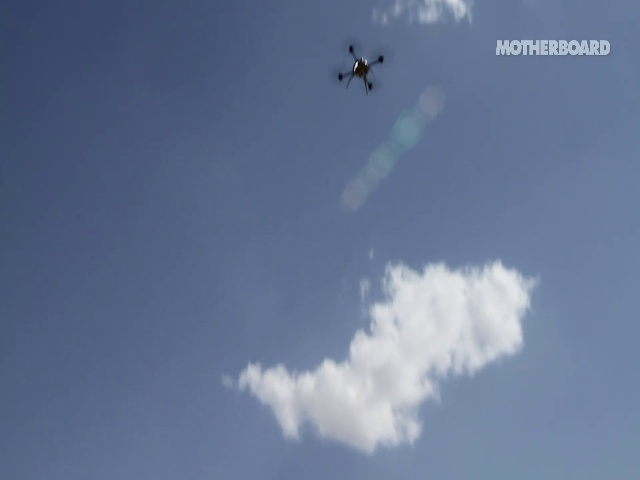drone: (327, 34, 397, 101)
